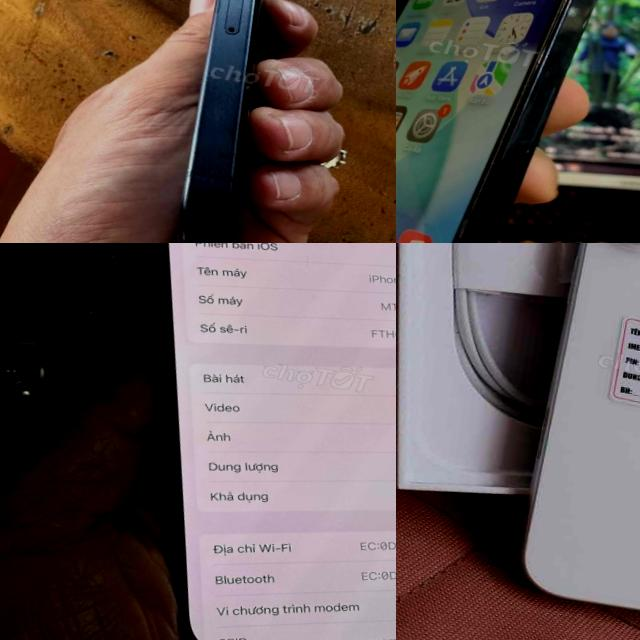gen_12_13: (396, 0, 640, 243)
gen_15: (63, 243, 396, 640), (146, 0, 309, 243)
gen_16: (498, 243, 640, 640)
